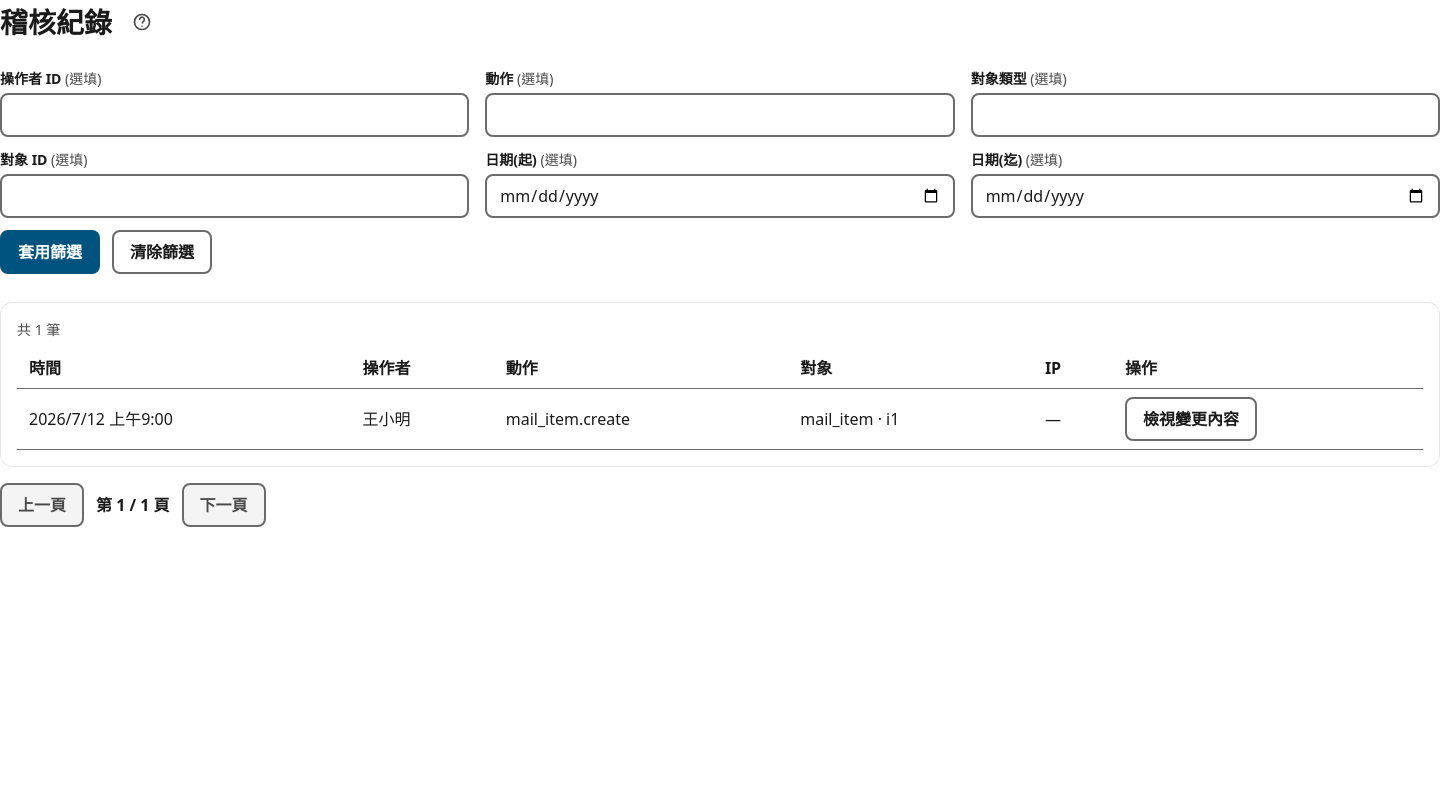
Test case: AuditLogsPage › opens a dialog showing the diff_json for an entry
This screenshot has width=1440, height=810.
Click the button "檢視變更內容": (1191, 419) x1=1125 y1=397 x2=1257 y2=441
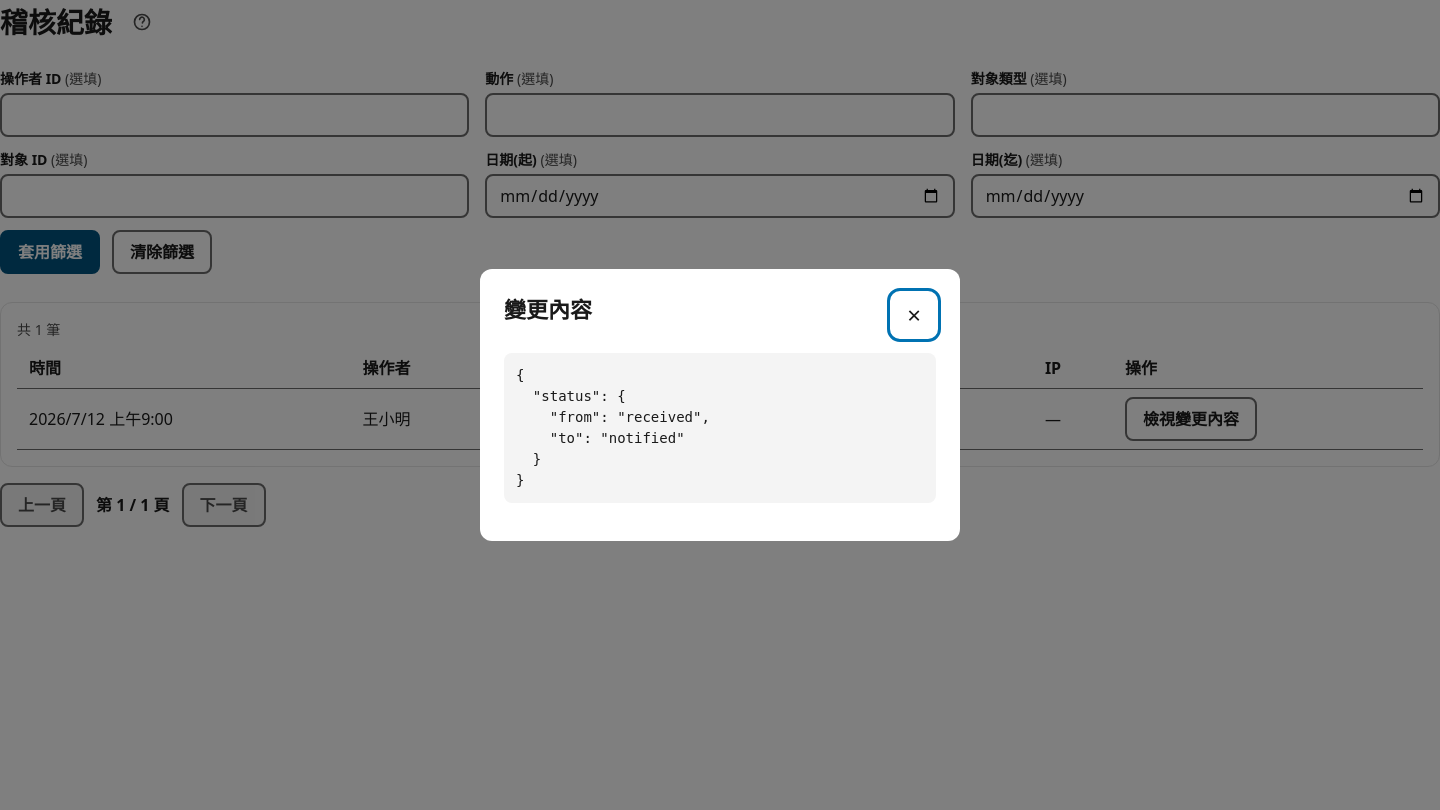
Expected: the text "received" is shown, x1=516 y1=367 x2=710 y2=488
Expected: the text "notified" is shown, x1=516 y1=367 x2=710 y2=488
